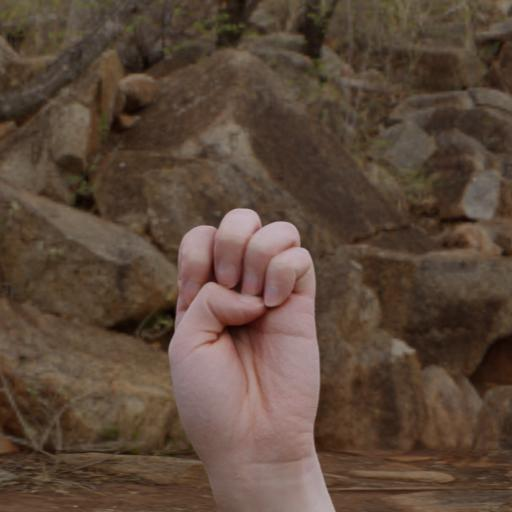E: (139, 201, 350, 512)
